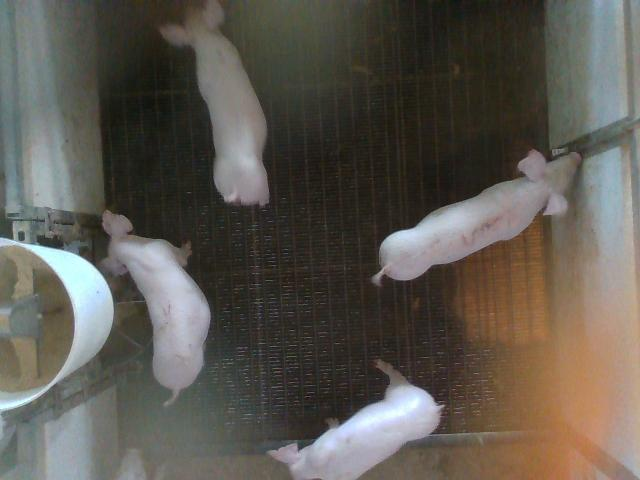pig-3: (371, 150, 581, 284)
